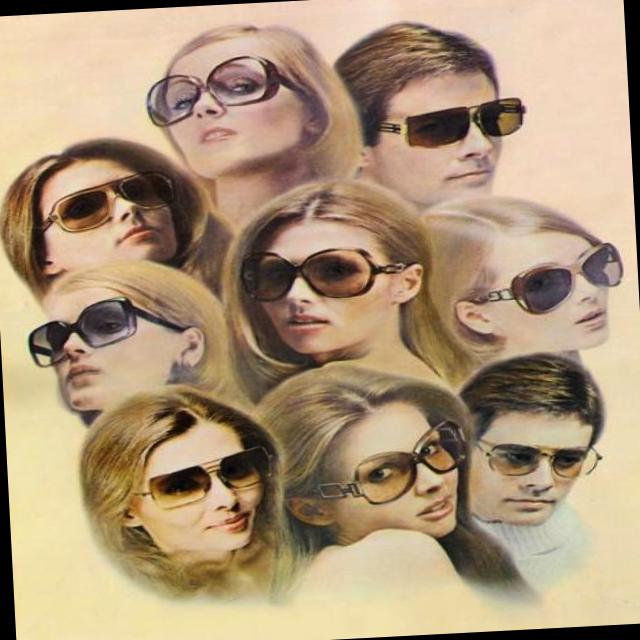glasses: (130, 50, 312, 130), (308, 421, 472, 508), (475, 241, 628, 319), (27, 294, 187, 368), (121, 445, 279, 512), (241, 244, 408, 304), (39, 170, 180, 234), (374, 98, 529, 152), (476, 434, 603, 485)
